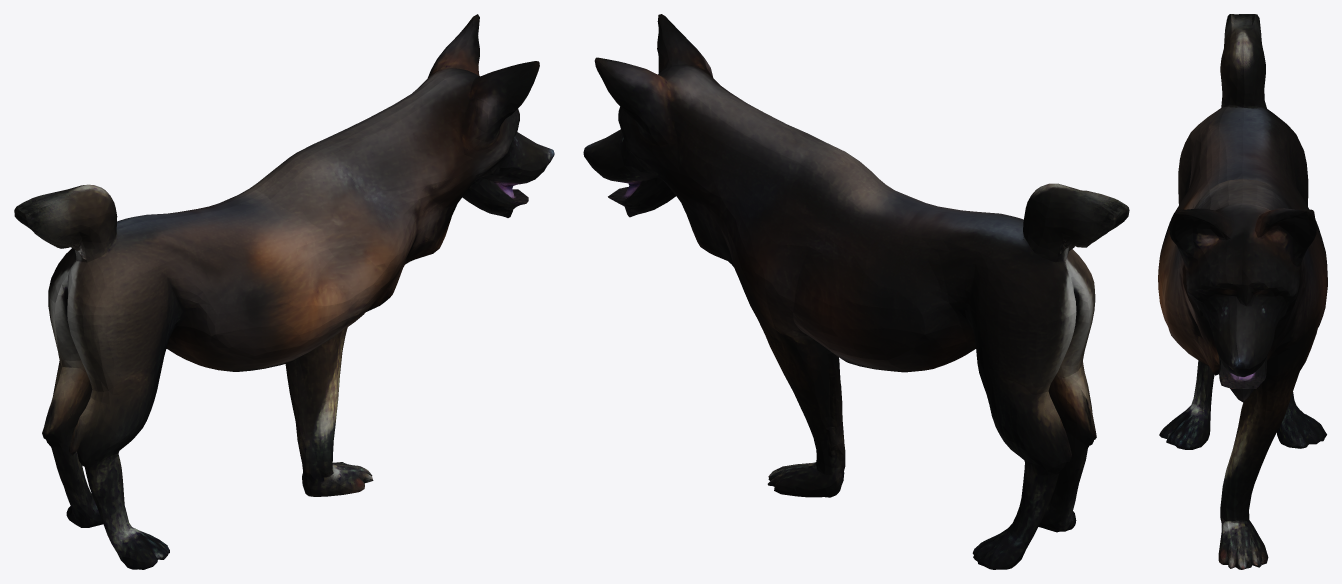
3 renders of one model, left to right at view 1: azimuth 30°, elevation 25°; view 2: azimuth 150°, elevation 25°; view 3: azimuth 270°, elevation 25°, orthographic. The views are drawn at different scales.
Visible parts, largest first — view 1: world; view 2: world; view 3: world.
Boxes of the visible parts, left/top/right/bottom form: world: left=14, top=14, right=554, bottom=569; world: left=583, top=14, right=1129, bottom=569; world: left=1158, top=14, right=1327, bottom=569.
Bounding box in the file's own units: 1 × 0.7387 × 0.2585.
1 material, 1 textured.
